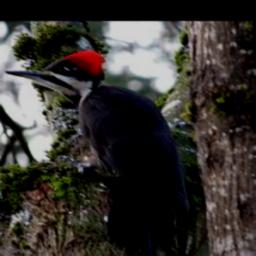Woodpecker: (1, 48, 200, 250)
